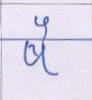ai_matra: (34, 16, 53, 38)
